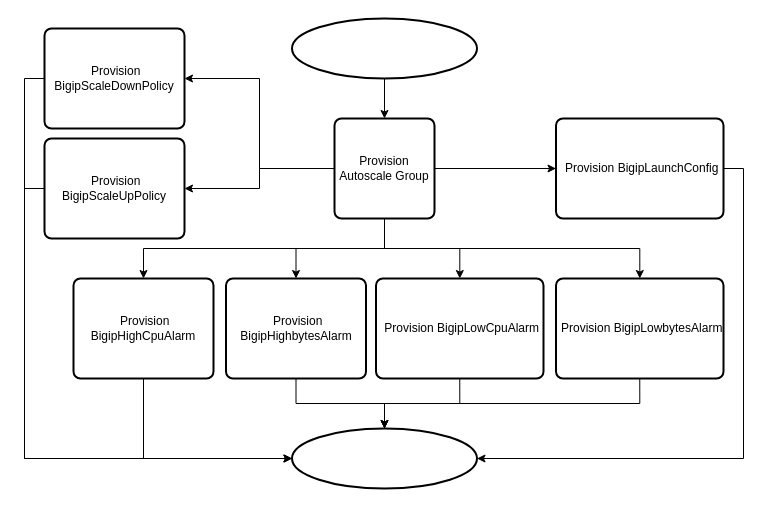
Image size: 769x506. Some labels were removed from this diagram. Here are the shapes that lost their labels. From the top down, the centre of each, then its label:
At pixel 384 48: "Start".
At pixel 384 458: "End".
